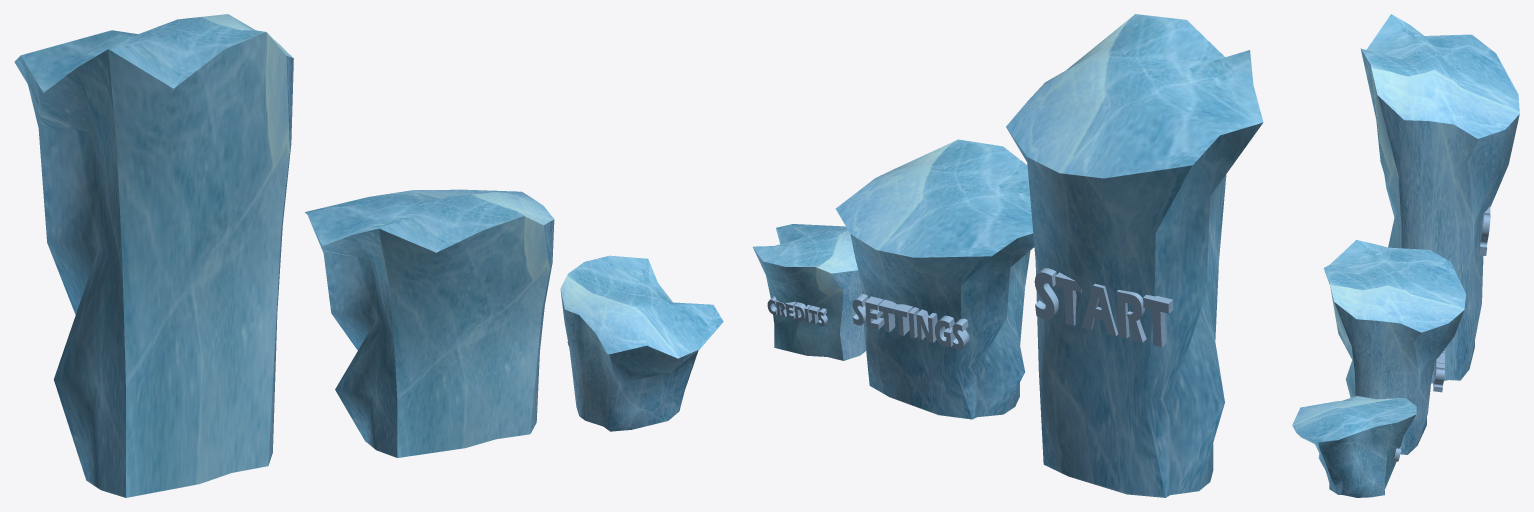
File: Starting Button Icebergs.fbx
The picture shows the model from 3 angles, left to right: view 1: azimuth 30°, elevation 25°; view 2: azimuth 150°, elevation 25°; view 3: azimuth 270°, elevation 25°; orthographic projection. The views are drawn at different scales.
Visible parts, largest first — view 1: pasted__pasted__pCube1, pasted__pCube1, pCube1; view 2: pasted__pasted__pCube1, pasted__pCube1, pCube1, Text.003, Text.001, Text.002; view 3: pasted__pasted__pCube1, pasted__pCube1, pCube1, Text.001, Text.003.
Part boxes in pixels (x1=…): pasted__pasted__pCube1: x1=14, y1=14, x2=293, y2=497; pasted__pCube1: x1=305, y1=189, x2=554, y2=457; pCube1: x1=560, y1=255, x2=723, y2=431; pasted__pasted__pCube1: x1=1006, y1=14, x2=1263, y2=497; pasted__pCube1: x1=835, y1=139, x2=1034, y2=419; pCube1: x1=753, y1=224, x2=865, y2=360; Text.003: x1=1034, y1=268, x2=1173, y2=347; Text.001: x1=852, y1=294, x2=969, y2=349; Text.002: x1=767, y1=296, x2=827, y2=326; pasted__pasted__pCube1: x1=1360, y1=14, x2=1519, y2=383; pasted__pCube1: x1=1323, y1=240, x2=1465, y2=454; pCube1: x1=1292, y1=396, x2=1416, y2=497; Text.001: x1=1433, y1=349, x2=1445, y2=392; Text.003: x1=1479, y1=206, x2=1490, y2=255.
Bounding box in the file's own units: 1462 × 1072 × 715.
Materials: 3 (2 with a texture image).
